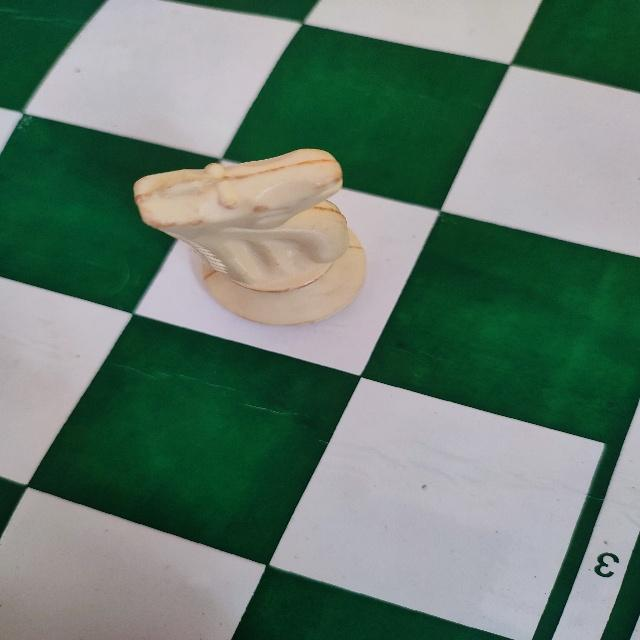Knight: (126, 146, 372, 331)
